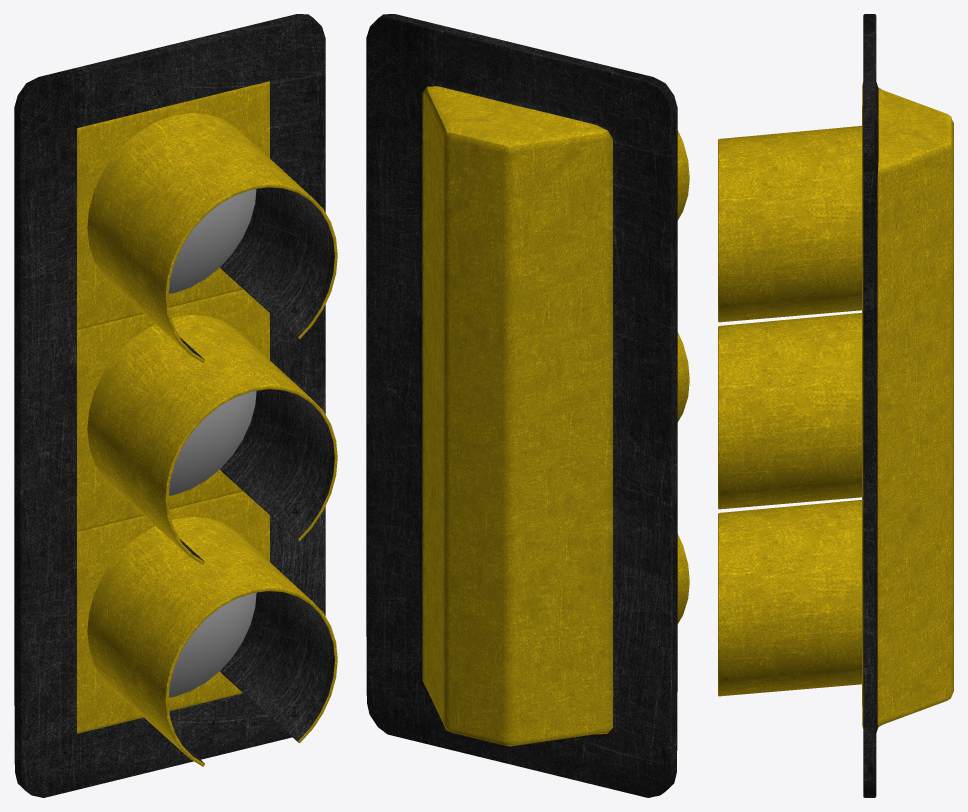
File: TrafficSignalVerticalHalfConeBlack3.fbx
3 renders of one model, left to right at view 1: azimuth 30°, elevation 25°; view 2: azimuth 150°, elevation 25°; view 3: azimuth 270°, elevation 25°, orthographic. The views are drawn at different scales.
Parts seen in each view (by area): view 1: Casing, SignalLight1, SignalLight2, SignalLight0; view 2: Casing; view 3: Casing.
Boxes of the visible parts, left/top/right/bottom form: Casing: left=14, top=14, right=337, bottom=797; SignalLight1: left=168, top=391, right=256, bottom=495; SignalLight2: left=168, top=592, right=256, bottom=697; SignalLight0: left=168, top=189, right=256, bottom=293; Casing: left=366, top=14, right=689, bottom=797; Casing: left=718, top=14, right=953, bottom=797.
Size of the model in its own units: 0.6568 by 1.47 by 0.473.
